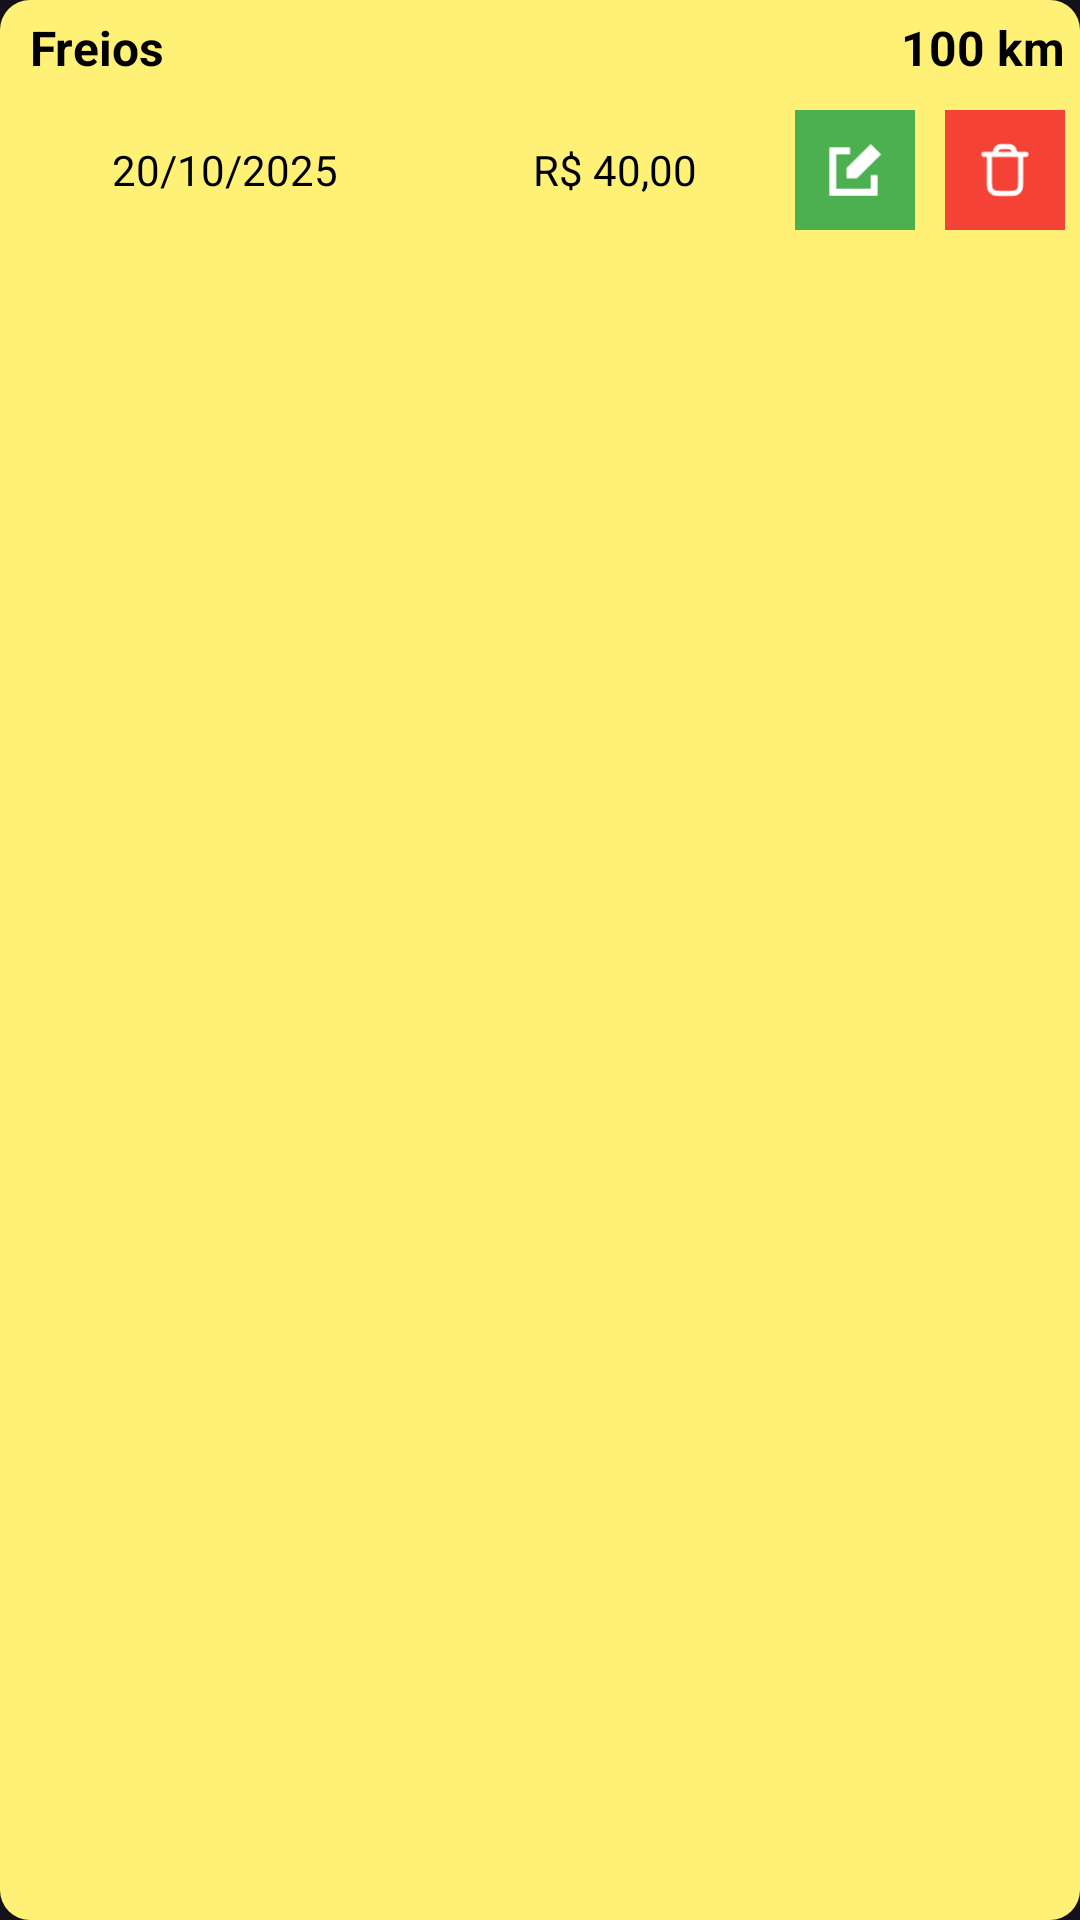

Icon bounding boxes for this 1080px×1920px phone screenshot, format box=[x1, y1, x2, y2]:
edit: box=[795, 110, 915, 230]
trash: box=[945, 110, 1065, 230]
